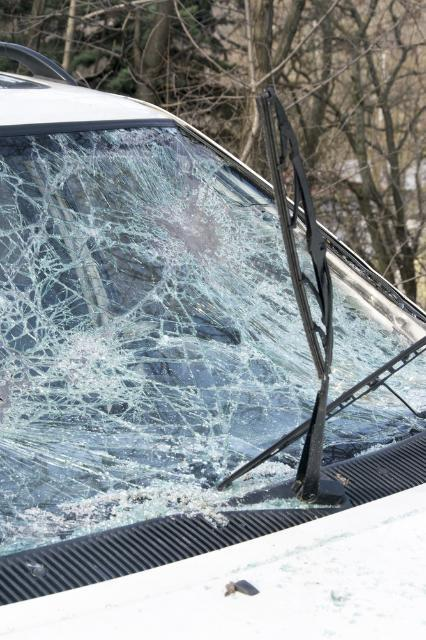glass shatter: (0, 123, 426, 557)
